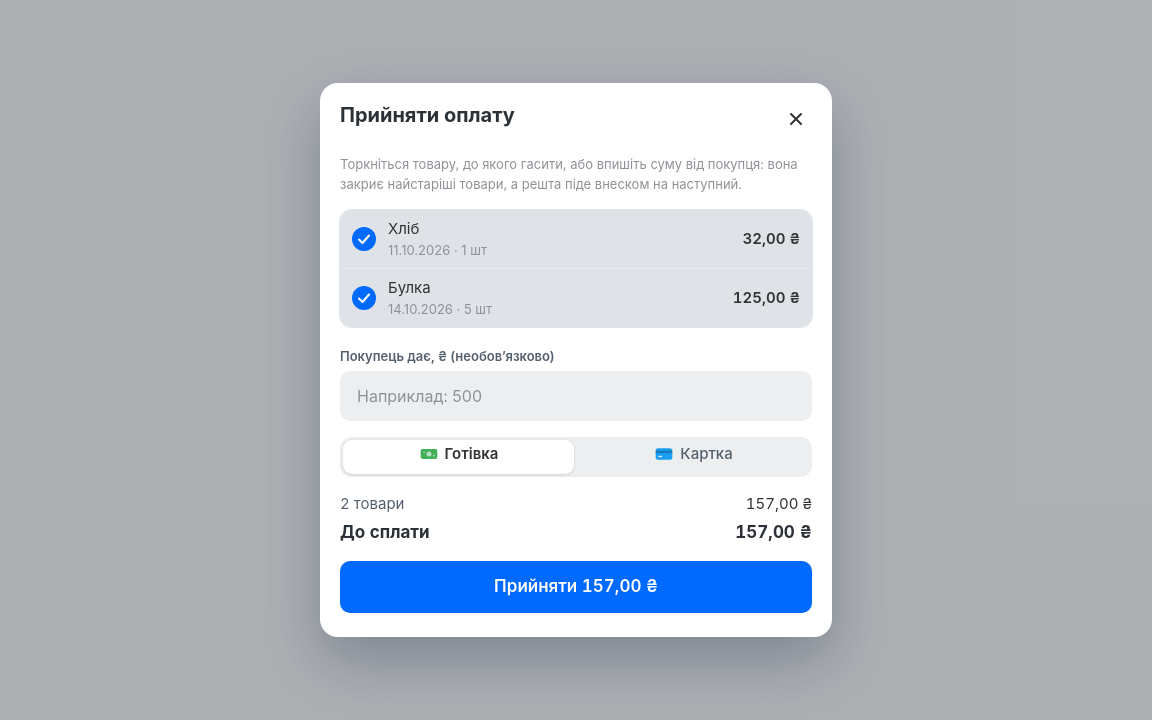
it: PaySheet › closes the oldest whole, takes units of the next and a «внесок» toward it — one tap, one request
Type "120" into the field with placeholder "Наприклад: 500". click: (576, 396)
box: [340,371,812,421]
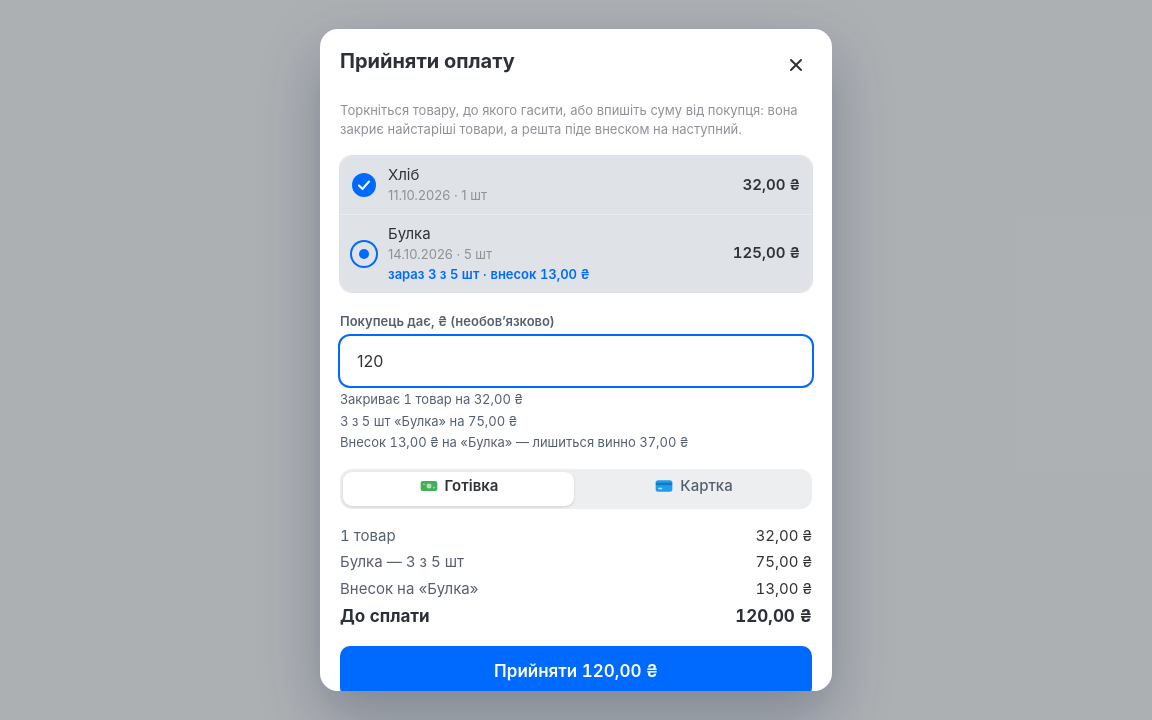
Click the button "Прийняти 120,00 ₴". click: click(576, 672)
box: [340,646,812,698]
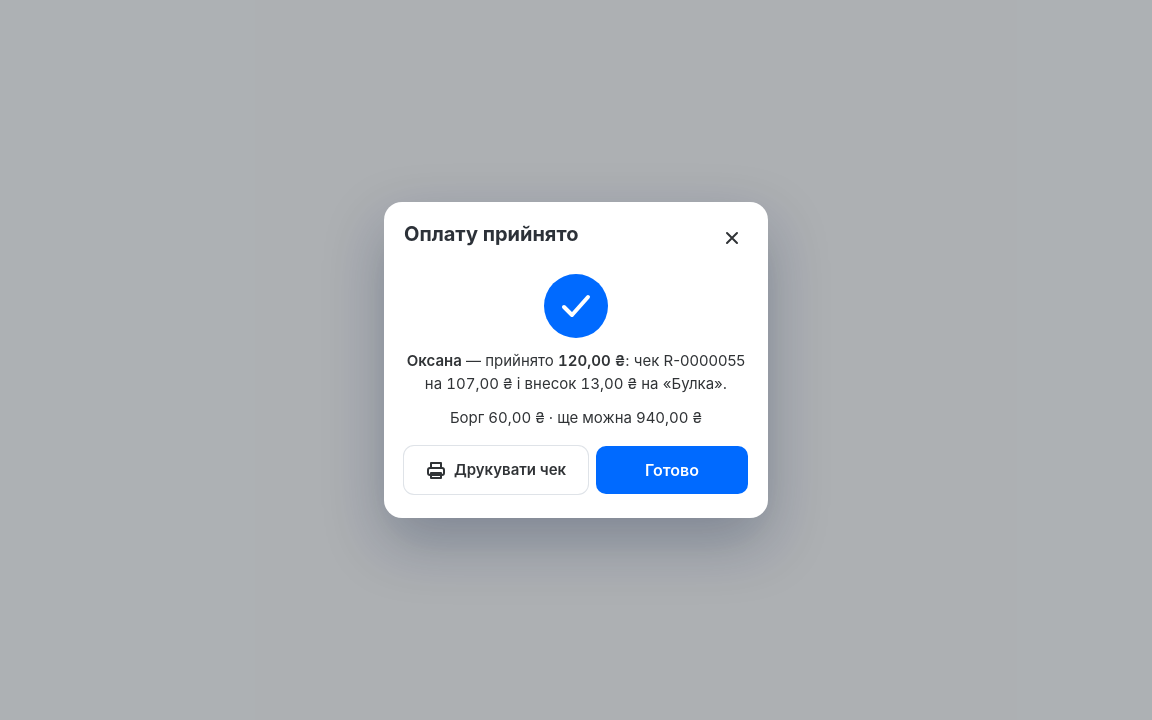
expect the dialog with test id "debts-pay-done" is shown: met, box [384,202,768,518]
expect the button "Друкувати чек" is shown: met, box [404,446,588,494]
